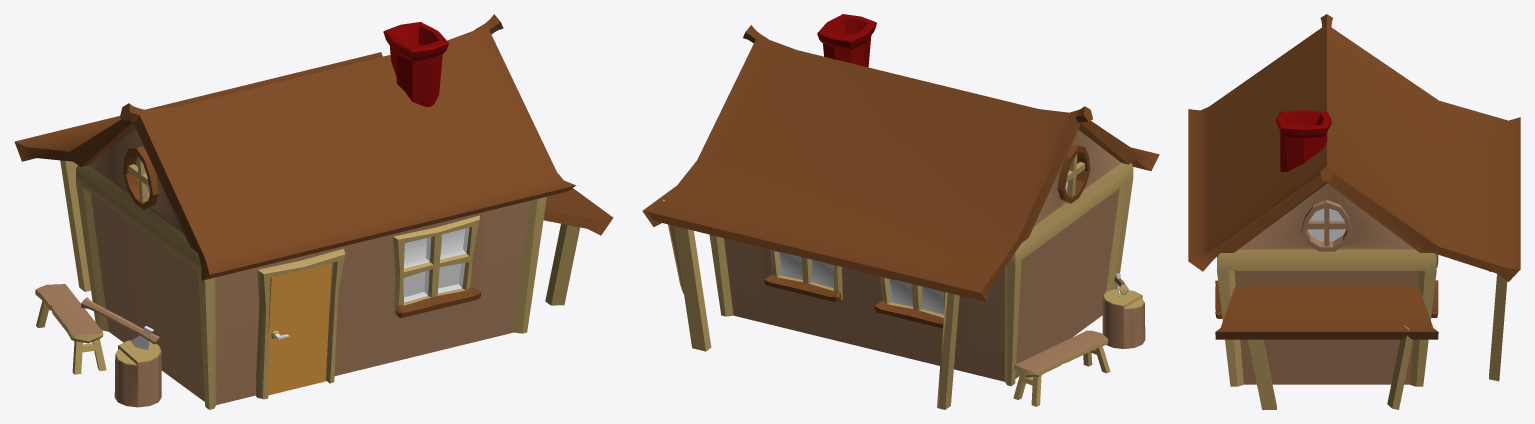
Rendered from rumah.fbx.
3 views of the same model, side by side, from view 1: azimuth 30°, elevation 25°; view 2: azimuth 150°, elevation 25°; view 3: azimuth 270°, elevation 25° (orthographic). The views are drawn at different scales.
Visible parts, largest first — view 1: ForesterHouse_Cube.006; view 2: ForesterHouse_Cube.006; view 3: ForesterHouse_Cube.006.
Boxes of the visible parts, x1,y1,x2,y2 form: ForesterHouse_Cube.006: (14,14,613,409); ForesterHouse_Cube.006: (642,14,1159,409); ForesterHouse_Cube.006: (1188,14,1520,409).
Size of the model in its own units: 591 by 340 by 428.
